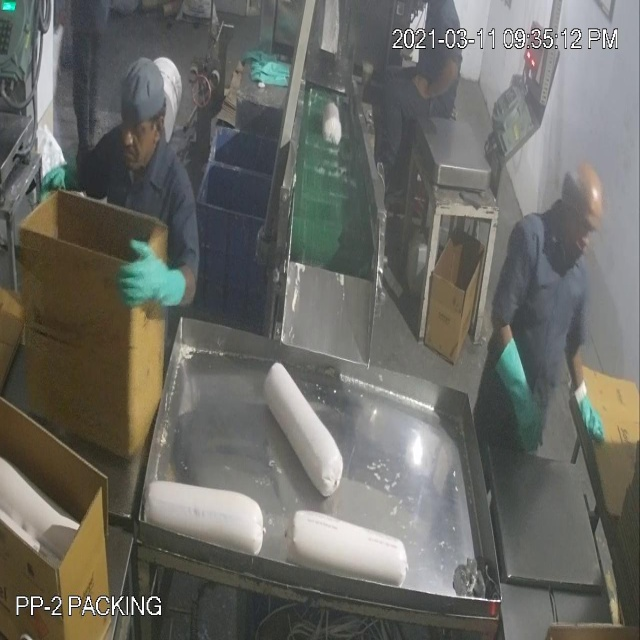Guantes: (496, 315, 550, 468), (120, 244, 189, 326), (571, 387, 608, 455)
Sin_guantes: (411, 54, 467, 111)
